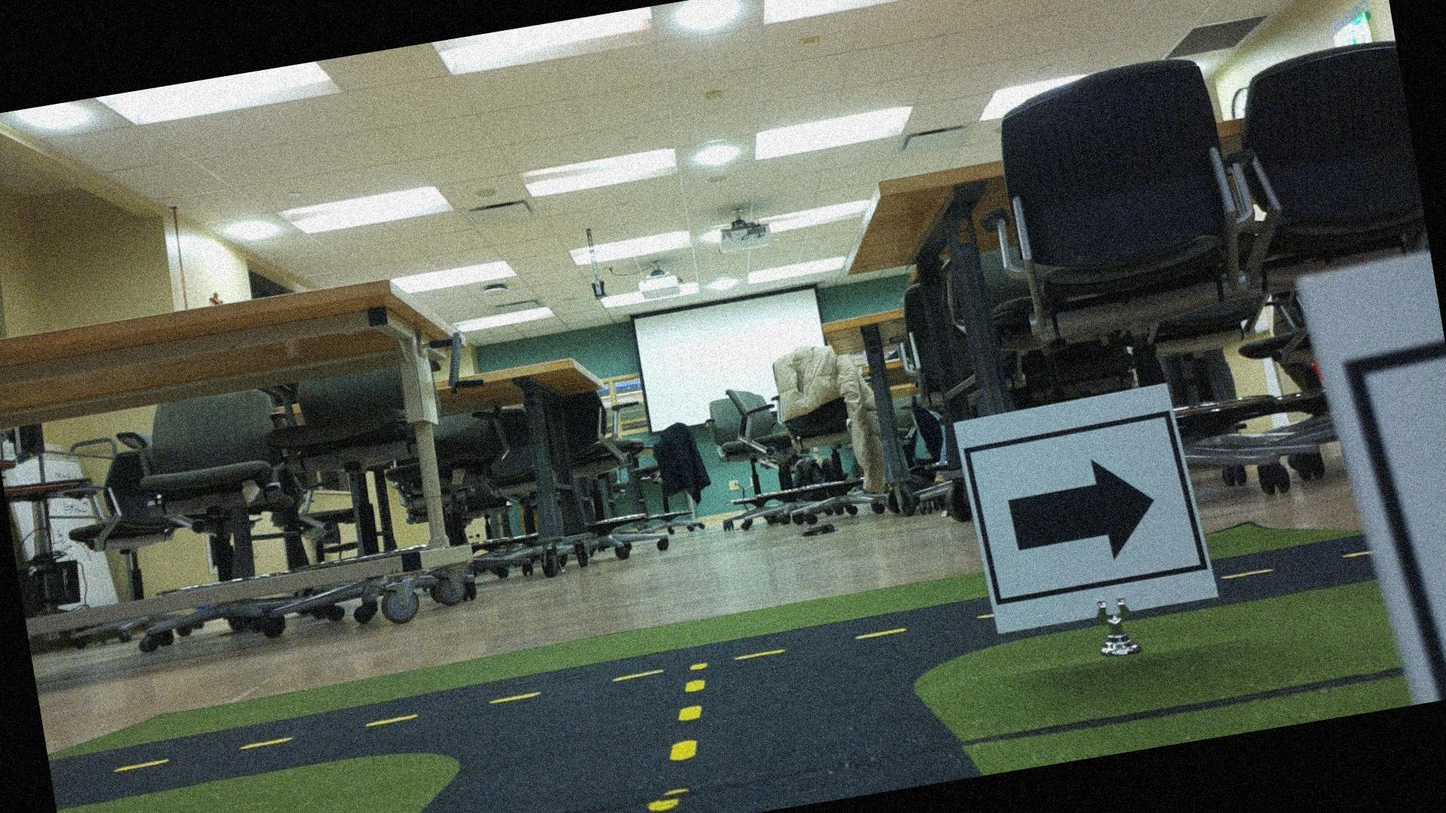turnleft: (962, 387, 1209, 640)
yellowline: (653, 659, 719, 766)
